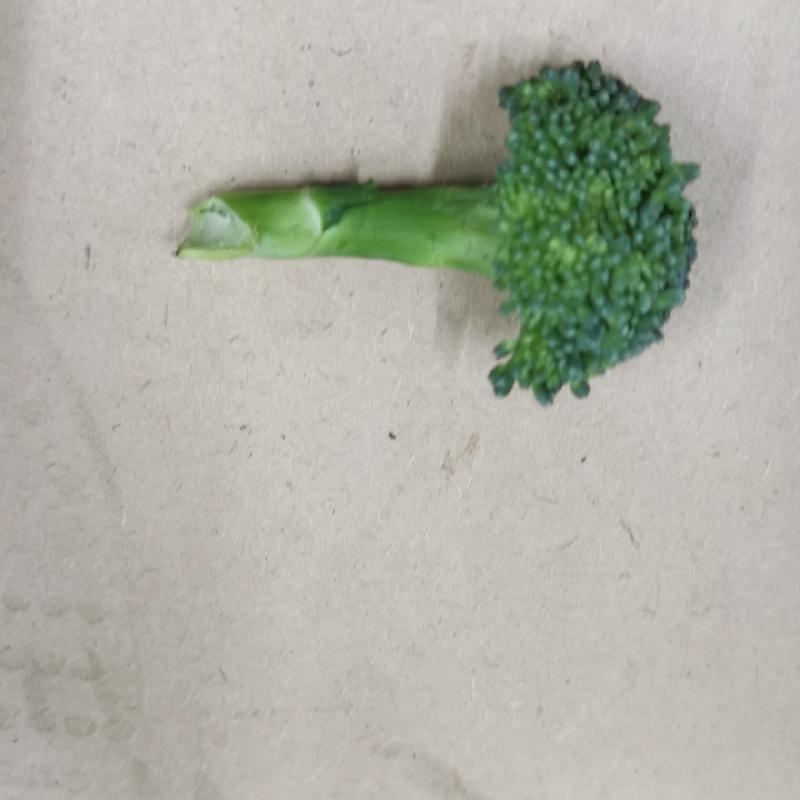broccoli: (168, 54, 710, 401)
